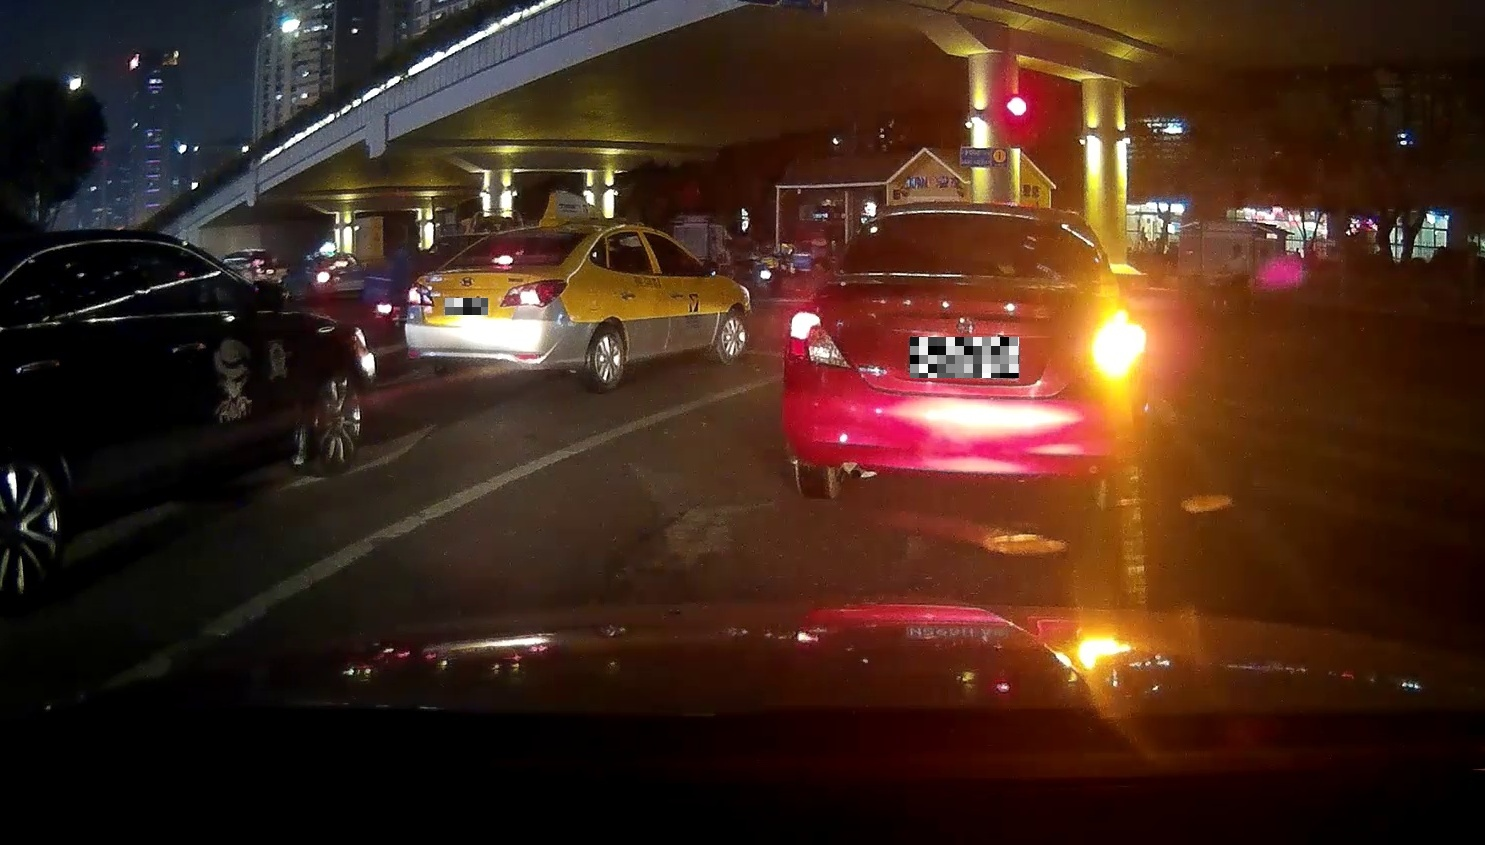L_light: (787, 312, 850, 366), (406, 282, 434, 307)
R_light: (1067, 321, 1139, 379), (499, 279, 568, 308)
T_light: (956, 211, 997, 223), (491, 254, 514, 265)
night-brake: (404, 222, 592, 391)
night-right: (781, 201, 1142, 511)
plate_1: (445, 298, 488, 315)
plate_2: (910, 337, 1019, 378)
